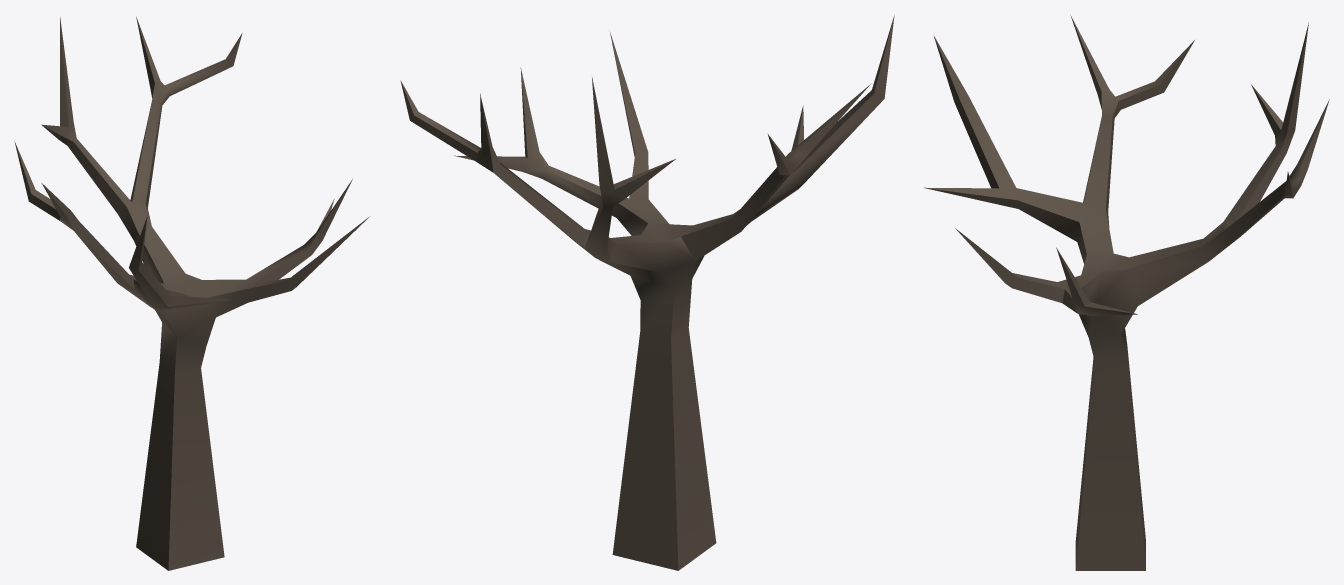
Rendered from RW_HG_Environment_Tree_Dead.002.fbx.
3 views of the same model, side by side, from view 1: azimuth 30°, elevation 25°; view 2: azimuth 150°, elevation 25°; view 3: azimuth 270°, elevation 25° (orthographic). The views are drawn at different scales.
Visible parts, largest first — view 1: RW_HG_Environment_Tree_Dead.002; view 2: RW_HG_Environment_Tree_Dead.002; view 3: RW_HG_Environment_Tree_Dead.002.
Boxes of the visible parts, left/top/right/bottom form: RW_HG_Environment_Tree_Dead.002: left=14, top=16, right=369, bottom=570; RW_HG_Environment_Tree_Dead.002: left=400, top=15, right=894, bottom=570; RW_HG_Environment_Tree_Dead.002: left=923, top=15, right=1329, bottom=570.
Size of the model in its own units: 0.8418 by 1.18 by 0.8404.
